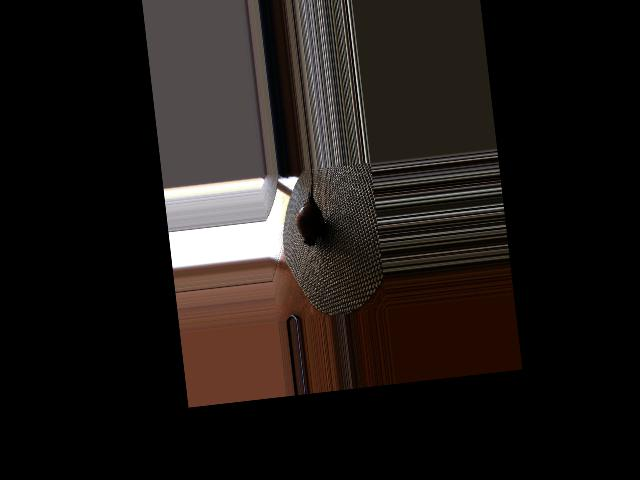beet: (290, 169, 326, 247)
